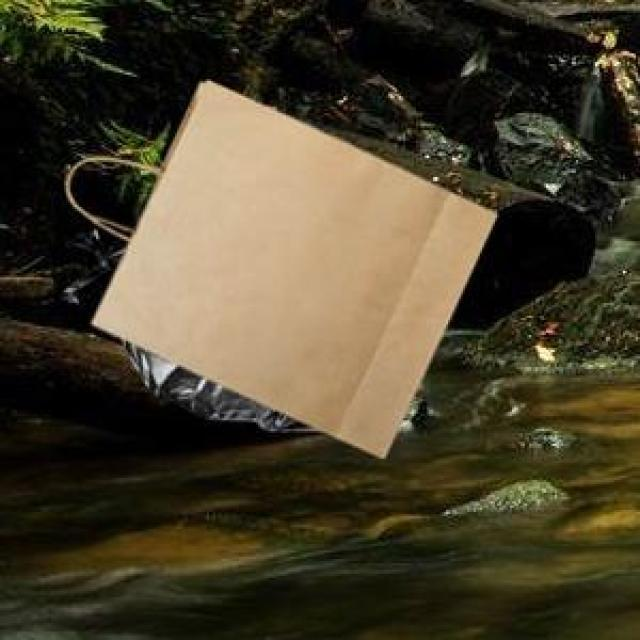miscellaneous trash: (60, 226, 292, 427)
paper: (62, 77, 493, 454)
